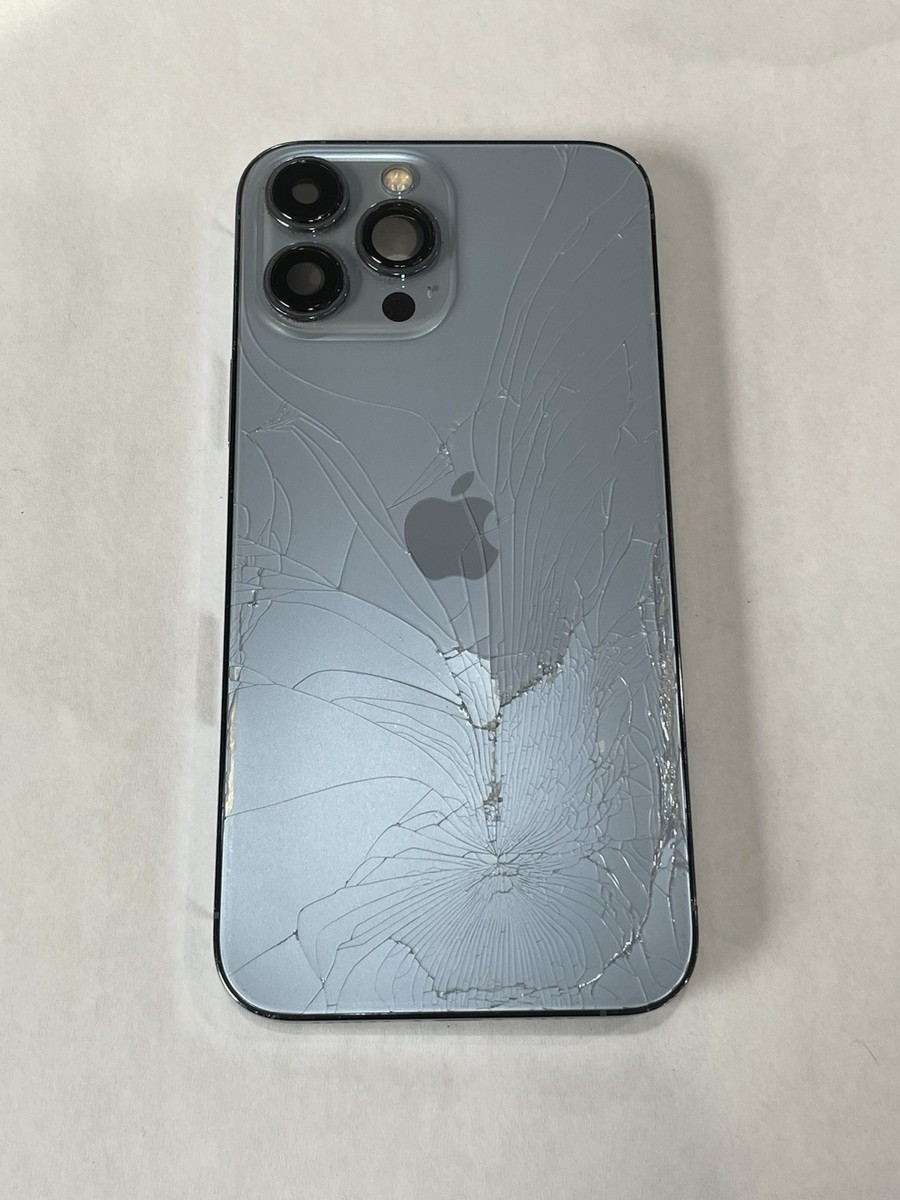crack_phone: (175, 94, 743, 1088)
